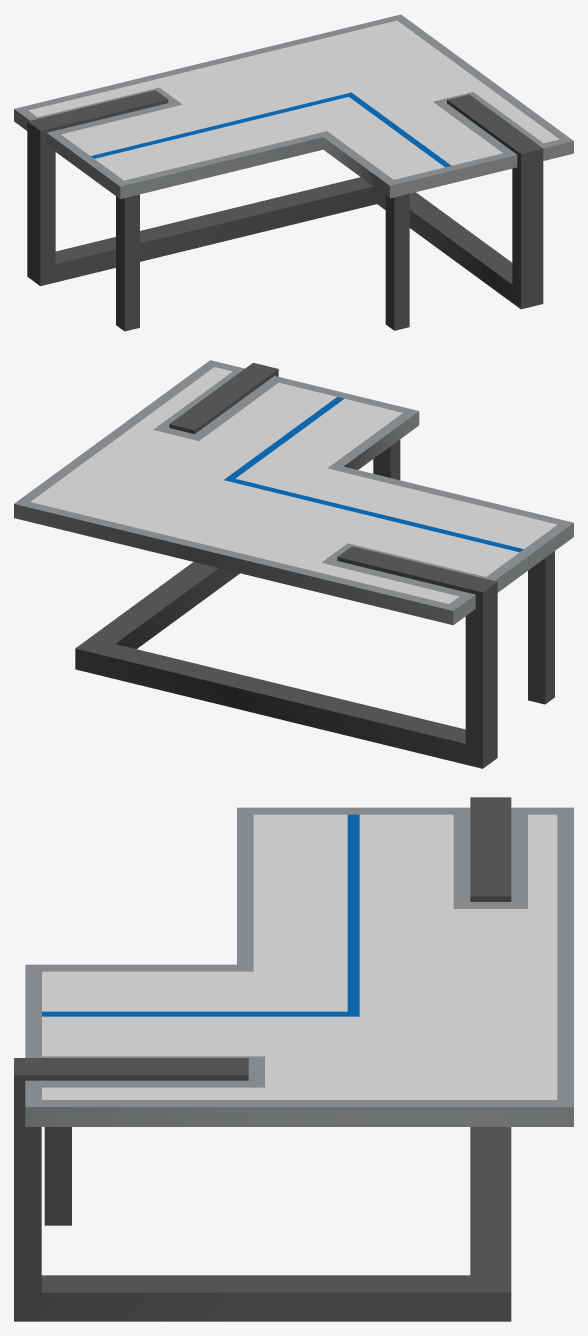
Rendered from Desk_026.fbx.
3 renders of one model, top to bottom at view 1: azimuth 30°, elevation 25°; view 2: azimuth 150°, elevation 25°; view 3: azimuth 270°, elevation 25°, orthographic. The views are drawn at different scales.
Parts seen in each view (by area): view 1: Desk_026; view 2: Desk_026; view 3: Desk_026.
Part boxes in pixels (x1,y1,x2,y2): Desk_026: [14, 14, 573, 331]; Desk_026: [14, 360, 573, 768]; Desk_026: [14, 797, 573, 1321].
Size of the model in its own units: 225 by 175 by 84.84.
